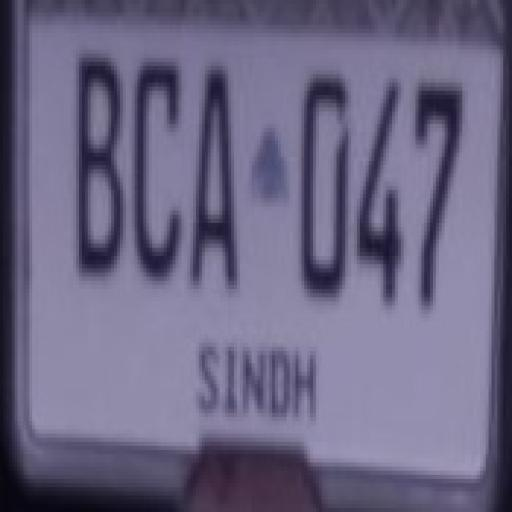0: (296, 82, 346, 301)
4: (362, 76, 407, 327)
7: (415, 74, 460, 320)
A: (192, 67, 242, 312)
B: (63, 55, 129, 292)
C: (139, 52, 182, 286)
